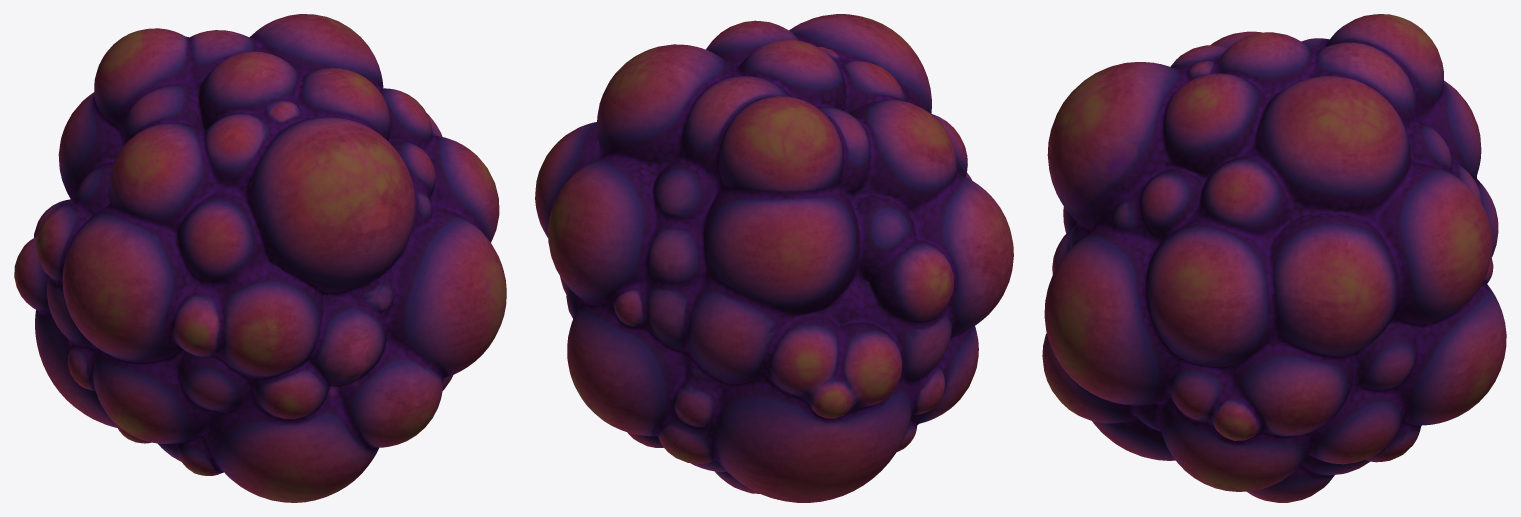
The model's file is Microbe06.FBX.
3 views of the same model, side by side, from view 1: azimuth 30°, elevation 25°; view 2: azimuth 150°, elevation 25°; view 3: azimuth 270°, elevation 25° (orthographic). The views are drawn at different scales.
Parts seen in each view (by area): view 1: Microbe06; view 2: Microbe06; view 3: Microbe06.
Boxes of the visible parts, bbox=[...] form: Microbe06: bbox=[14, 14, 506, 502]; Microbe06: bbox=[535, 14, 1013, 502]; Microbe06: bbox=[1042, 14, 1506, 502].
Bounding box in the file's own units: 7.52 × 7.63 × 7.14.
